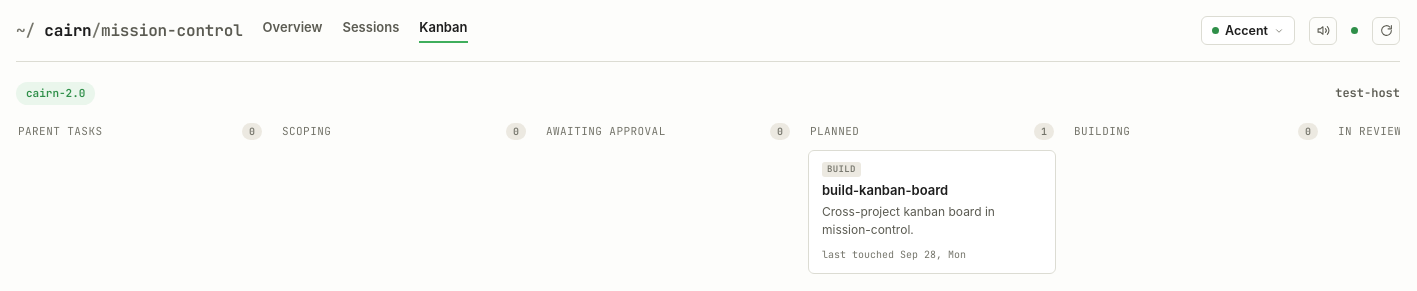
Test: Kanban › Refresh now on an unfiltered board re-enables the button and shows the updated label
The image size is (1417, 291).
Expected: the element with test id "task-card-docs/tasks/2026-09-28-1345-build-kanban-board" is shown, [808, 150, 1056, 274]
Click the button named "Refresh now" at {"x": 1386, "y": 30}, box [1372, 16, 1400, 44]
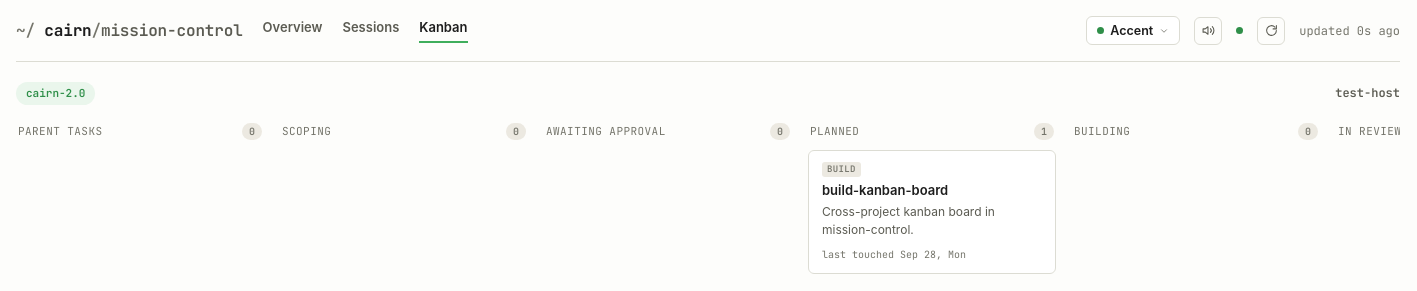
Expected: the button named "Refresh now" is enabled, [1257, 16, 1285, 44]
Expected: the text with class "updated-at" shows "updated", [1299, 22, 1400, 38]
